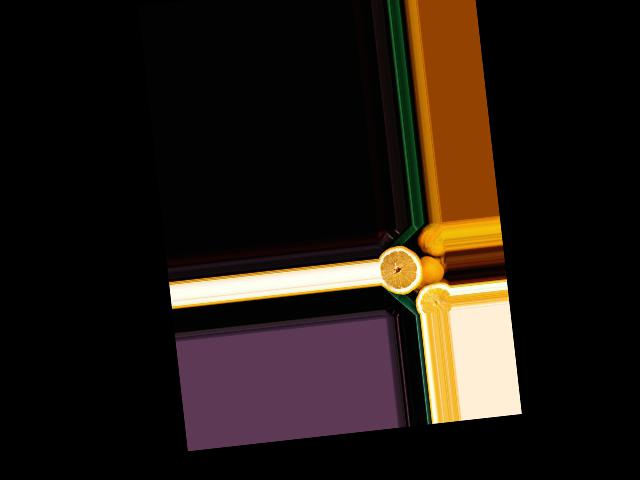lemon: (412, 254, 447, 290)
